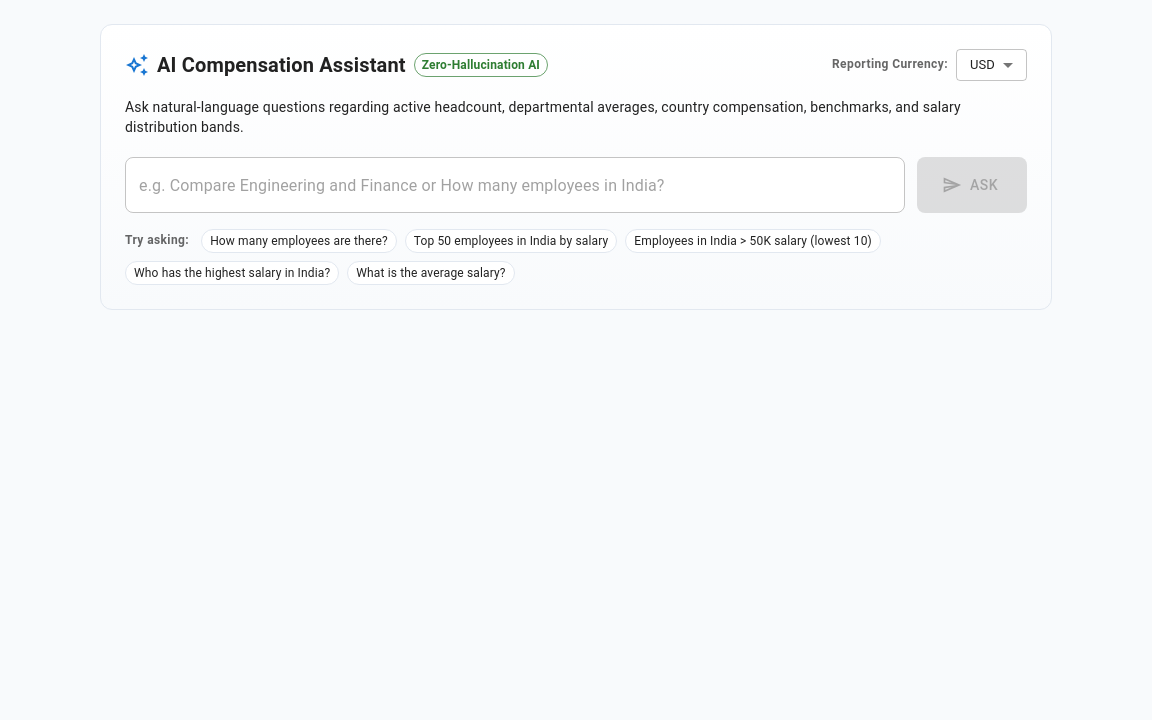
Scenario: CompensationAssistant Component › renders top earning employee profile card
Type "Who has the highest salary in India?" into the field with placeholder "e.g. Compare Engineering and Finance" at (515, 185), box [125,157,905,213]
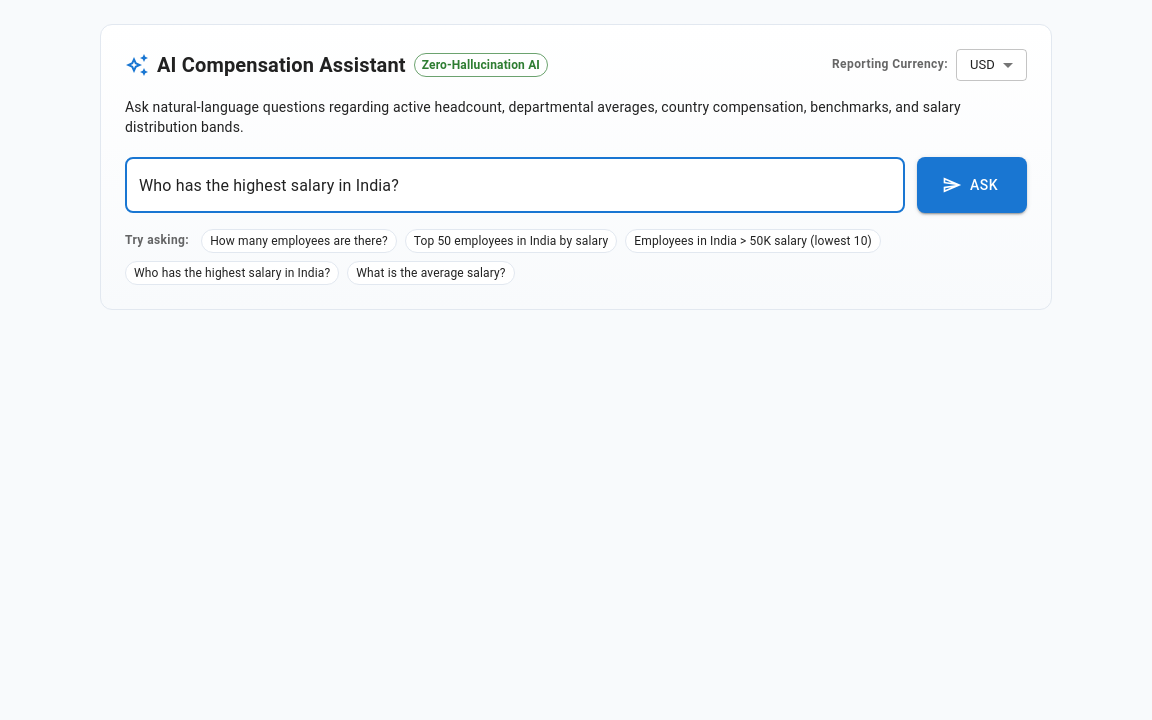
Click the button "Ask" at (972, 185), box [917,157,1027,213]
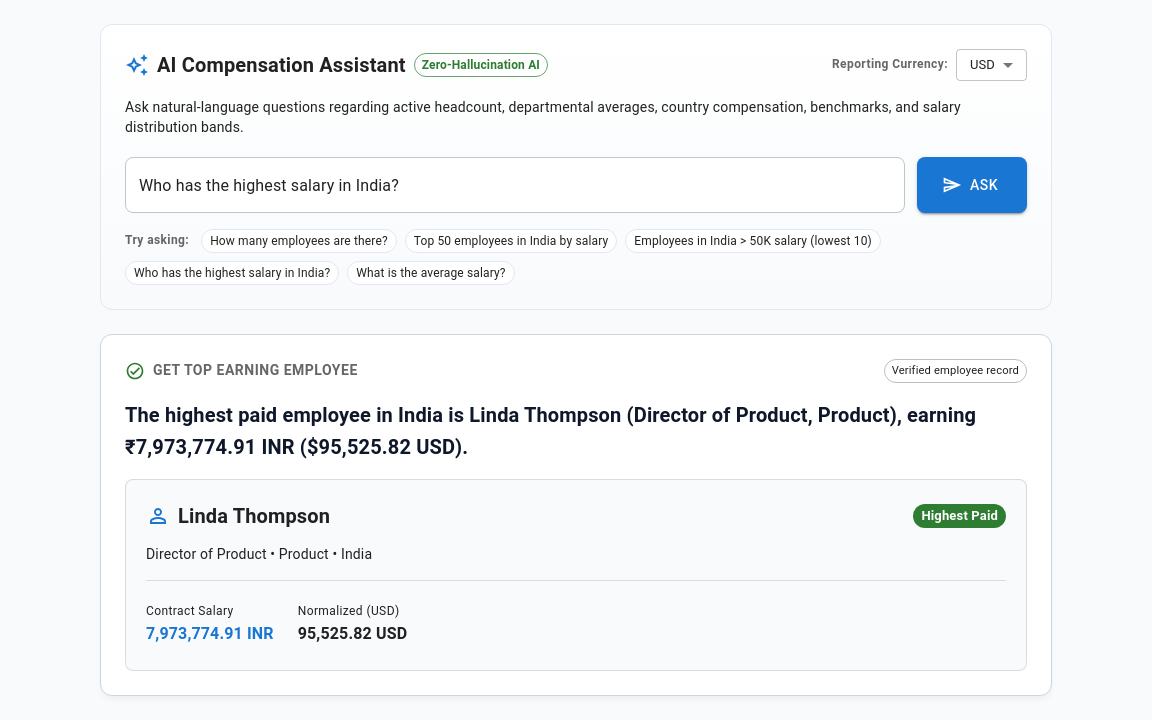
expect the heading "Linda Thompson" is shown: met, box [178,500,330,532]
expect the text "Director of Product • Product • India" is shown: met, box [146,546,372,562]
expect the text "Highest Paid" is shown: met, box [921,508,998,523]
